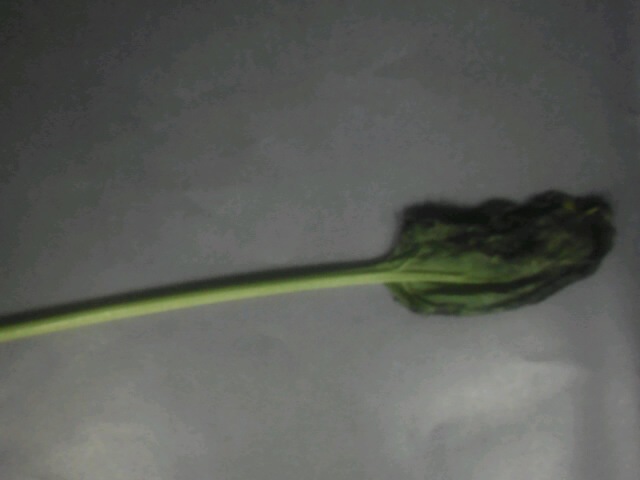yellow: (206, 171, 621, 329)
